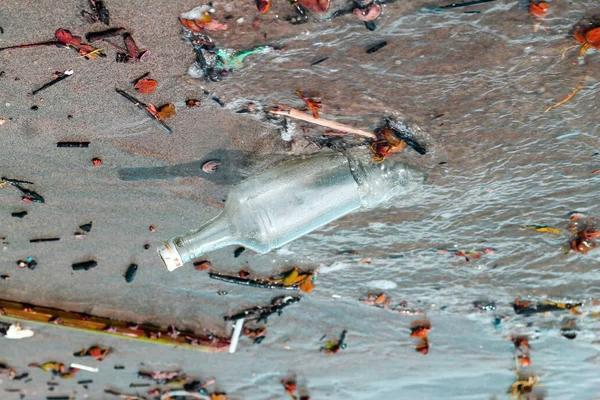Glass: (153, 149, 435, 275)
